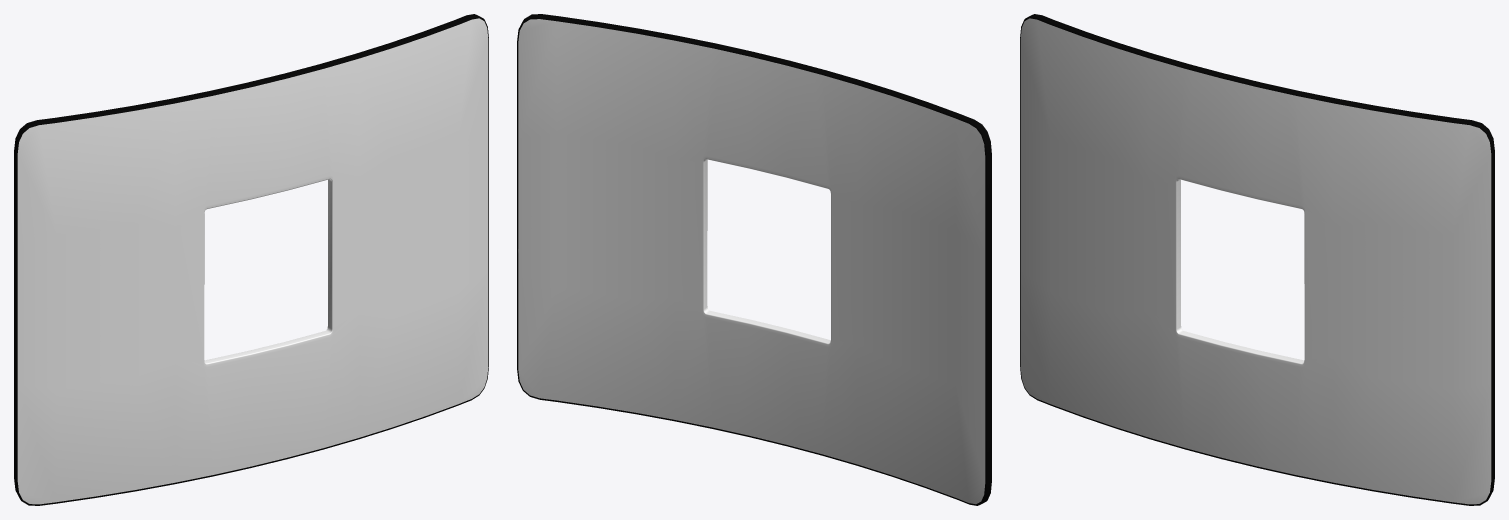
The model's file is hood_main_group_main_model_1.obj.
3 views of the same model, side by side, from view 1: azimuth 30°, elevation 25°; view 2: azimuth 150°, elevation 25°; view 3: azimuth 330°, elevation 25° (orthographic).
Bounding box in the file's own units: 0.7746 × 0.6 × 0.0596.
Materials: 1 (1 with a texture image).
